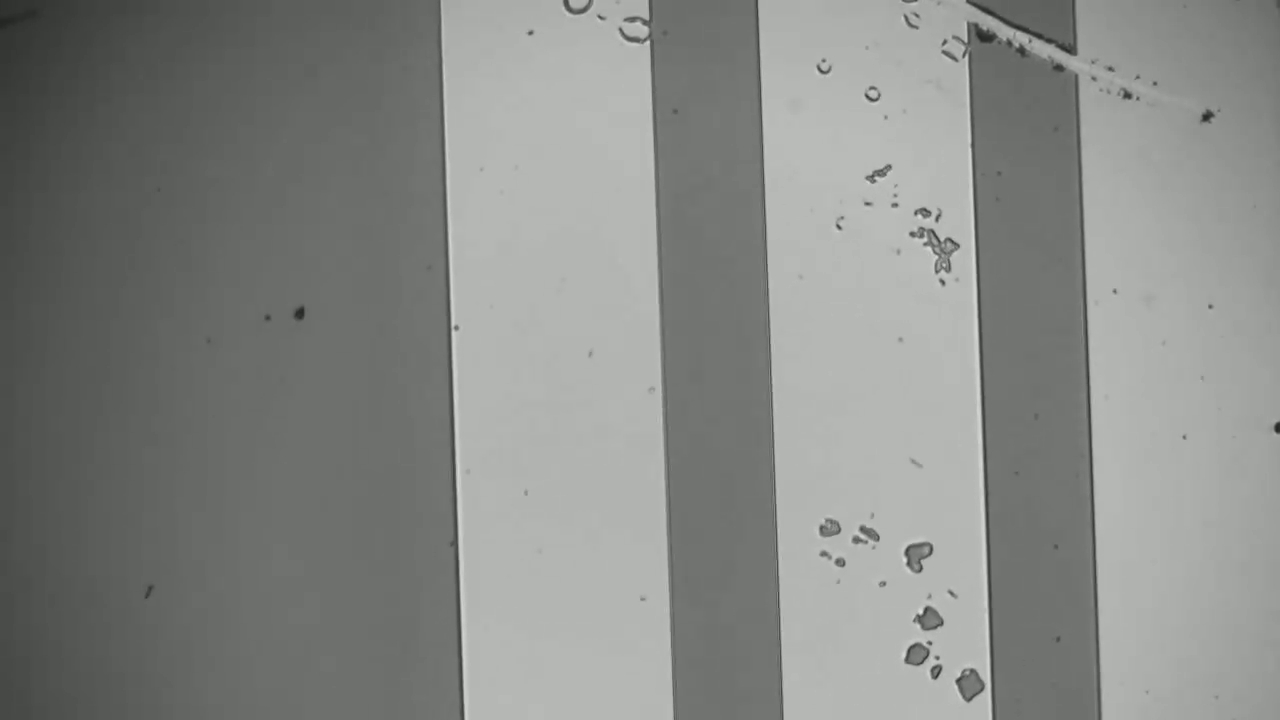Short_circuit: (938, 1, 1110, 111)
